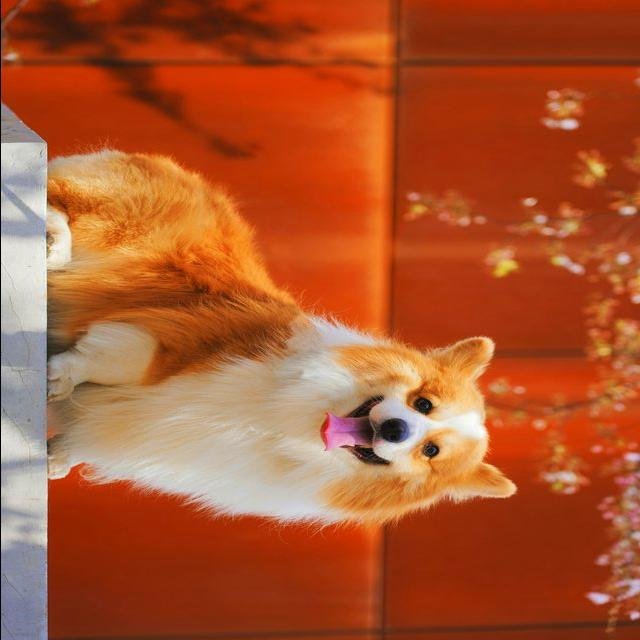corgi: (45, 148, 518, 531)
